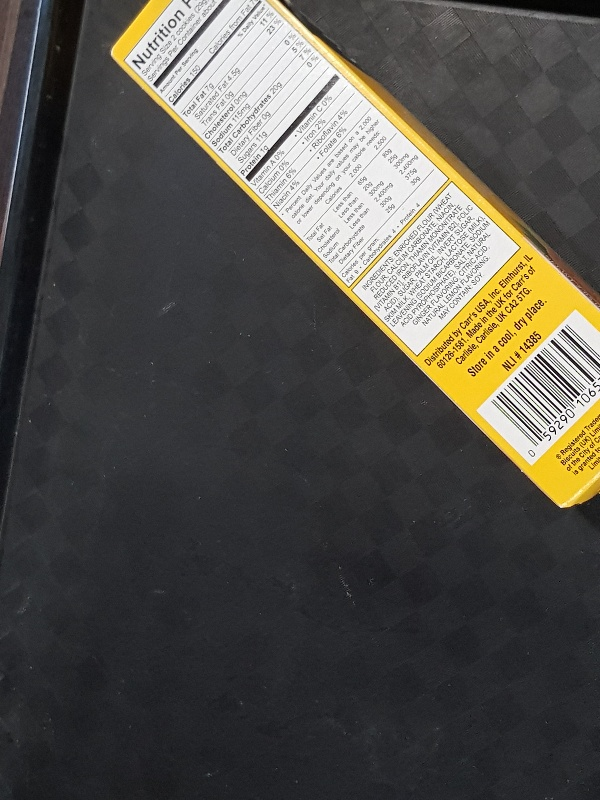Carr's Ginger Lemon Cremes: (106, 1, 600, 513)
